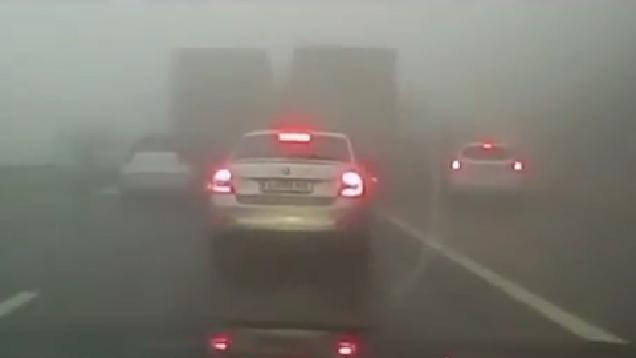car: (221, 125, 379, 228), (447, 135, 529, 201), (118, 143, 192, 196)
truck: (286, 45, 400, 187), (169, 47, 275, 168)
